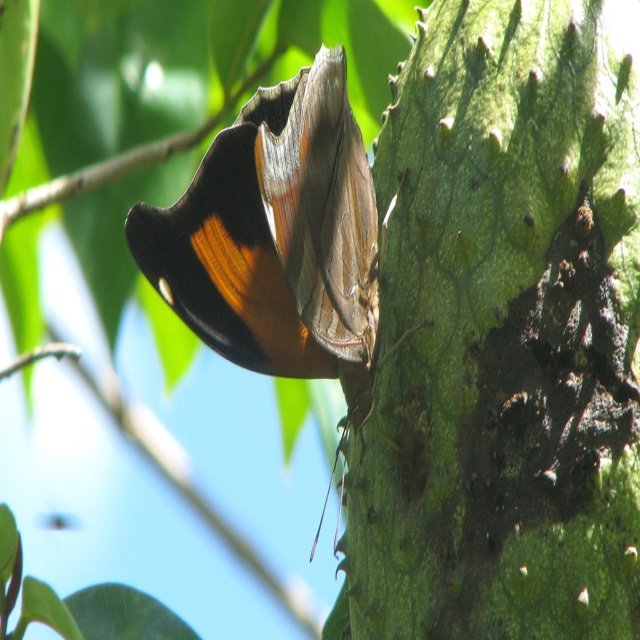Butterfly: (162, 52, 450, 498)
